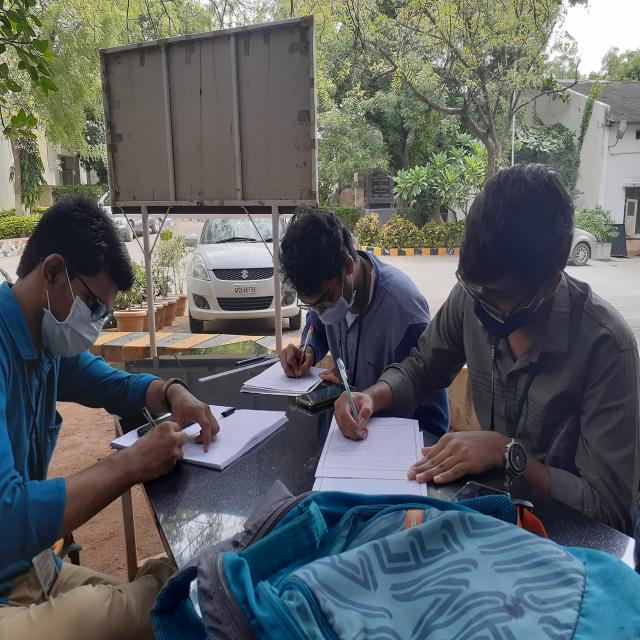dry: (91, 7, 326, 223), (308, 393, 440, 519), (112, 385, 298, 474), (242, 348, 334, 402), (334, 344, 368, 436)
